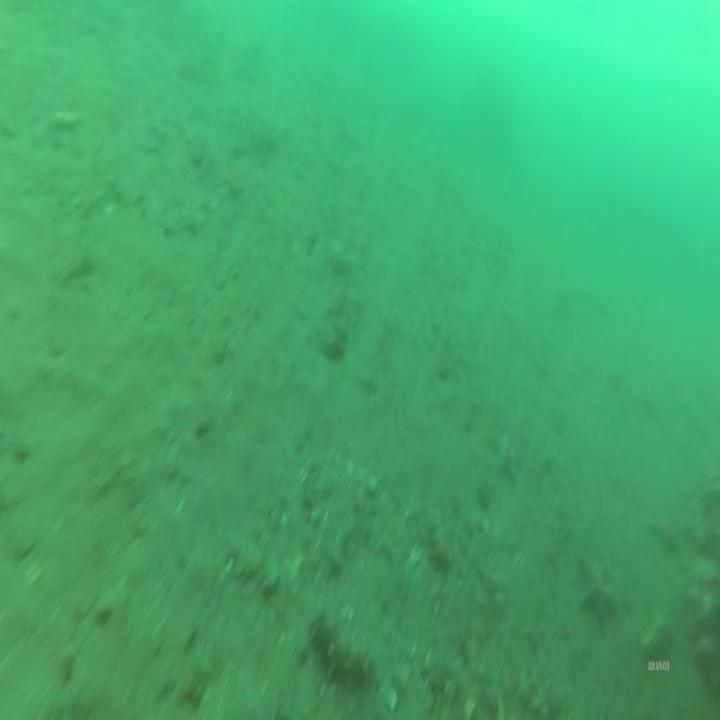holothurian: (303, 606, 374, 699)
starfish: (491, 423, 527, 487)
